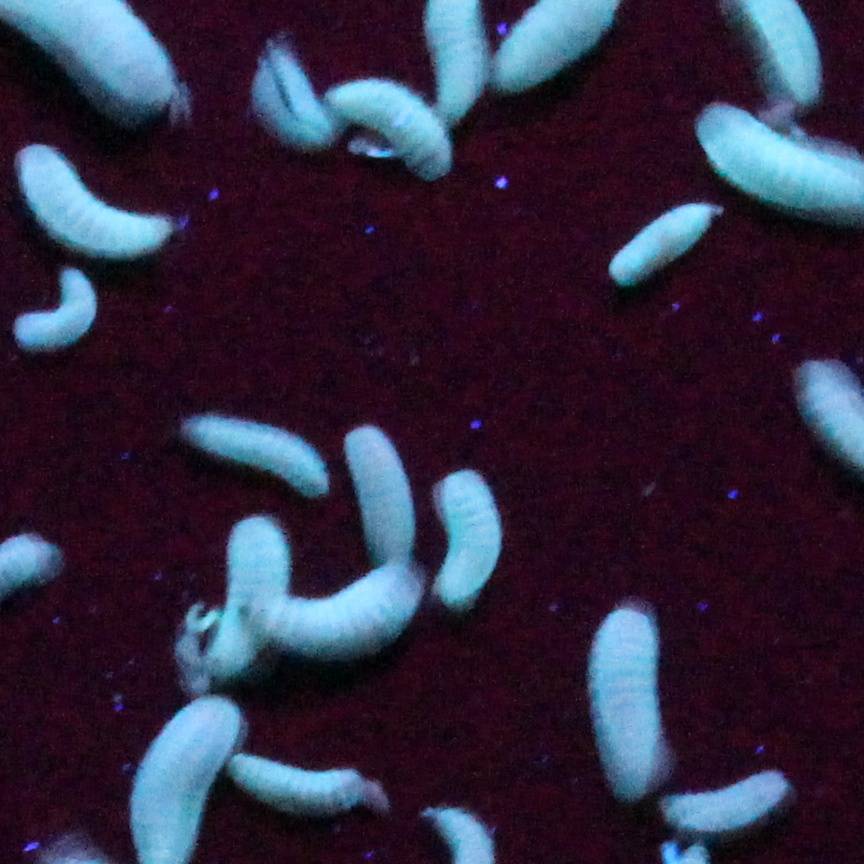larve: (15, 144, 168, 257), (595, 610, 675, 810), (328, 71, 455, 182), (208, 530, 295, 690), (268, 564, 428, 650), (335, 430, 428, 570), (202, 417, 328, 510), (435, 464, 495, 624), (608, 202, 710, 284), (8, 269, 102, 351), (235, 757, 362, 817), (259, 44, 328, 151), (665, 772, 779, 835)
